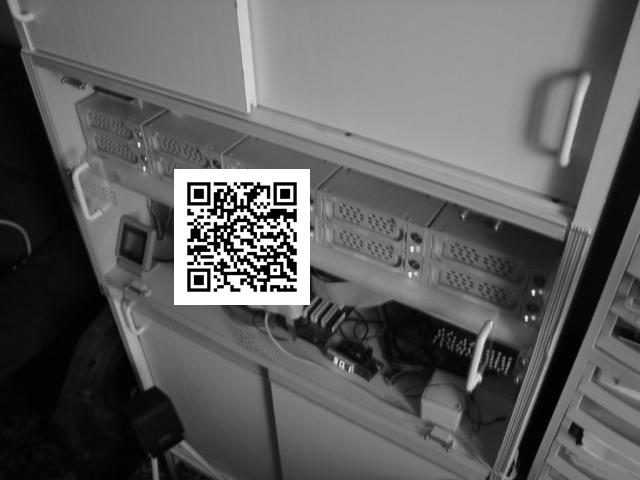qr_code: (172, 168, 311, 305)
